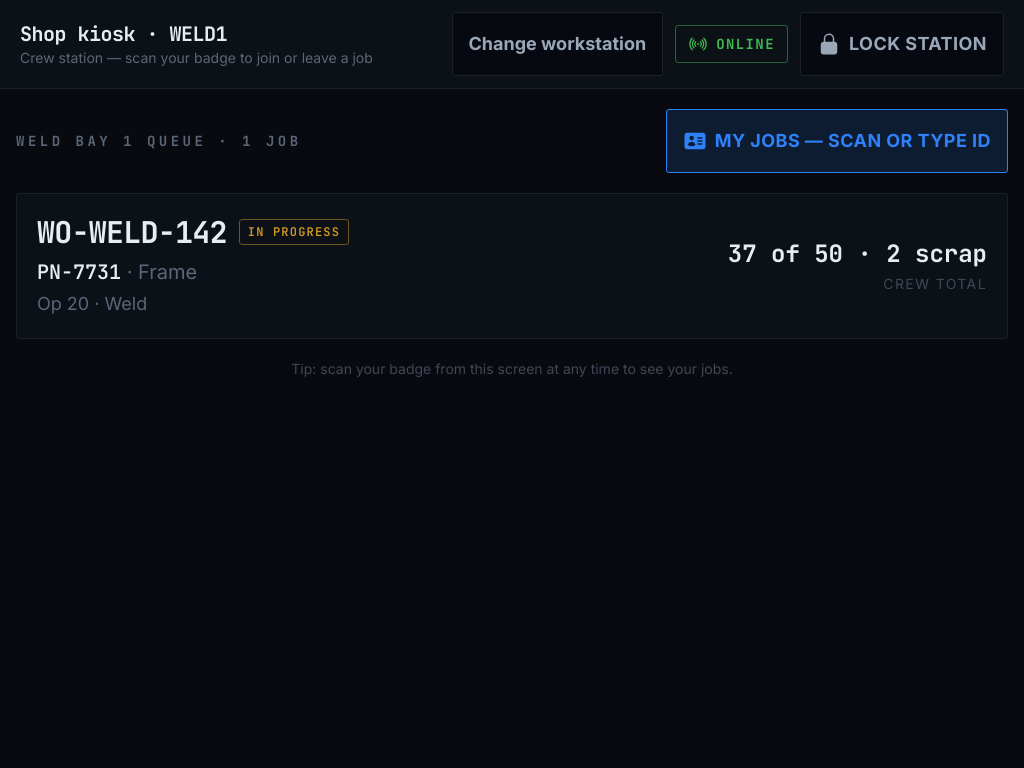
Test: CrewStationKiosk workstation selection › confirms the current workstation with the server before returning to its queue
Expected: the button "WO-WELD-142" is shown, [16,193,1008,339]
Click the button "Change workstation".
click(557, 44)  # box [452,12,663,76]
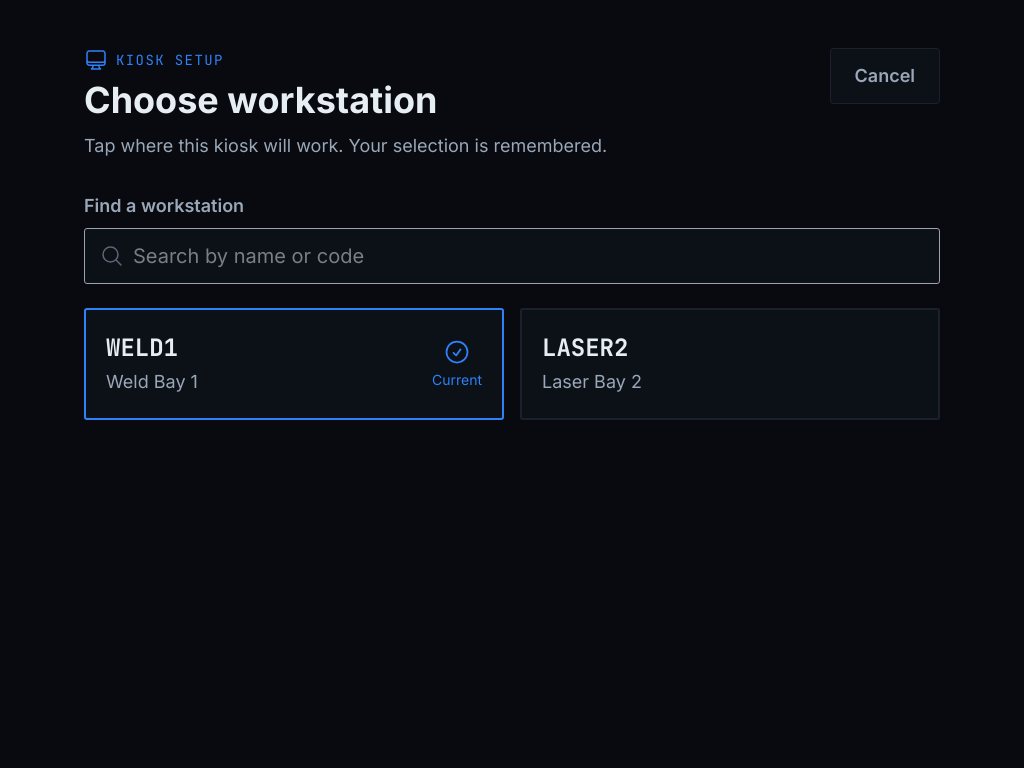
Expected: the heading "Choose workstation" is shown, [84,78,438,122]
Click the button "WELD1 Weld Bay 1 Current".
click(142, 348)  # box [84,308,504,420]
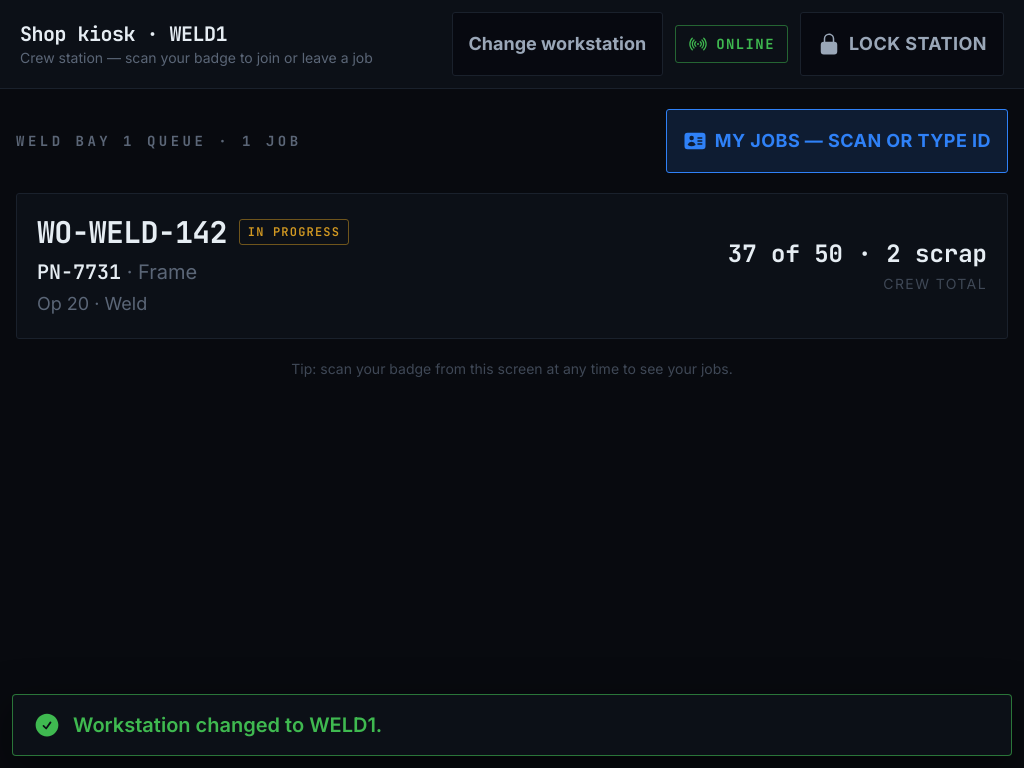
Expected: the button "WO-WELD-142" is shown, [16,193,1008,339]
